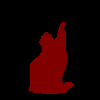vestito: (28, 21, 74, 94)
